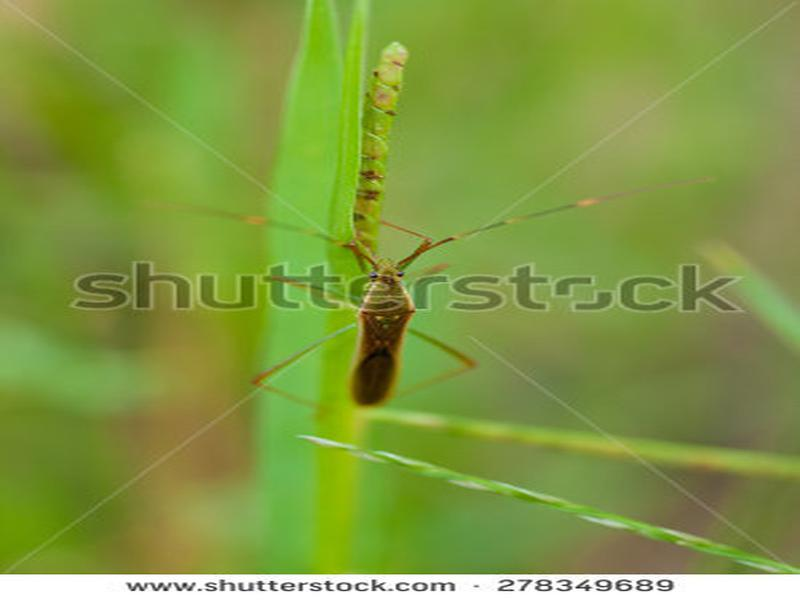Rice_earhead_bug: (319, 244, 439, 424)
